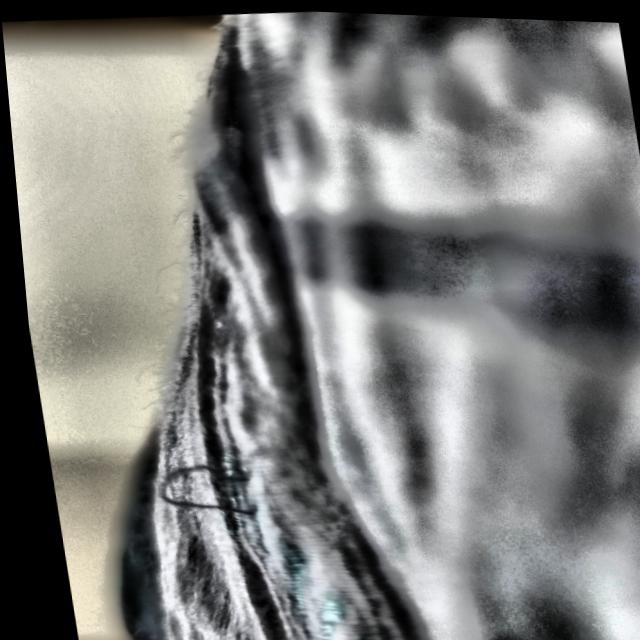Stitch: (138, 418, 259, 576)
